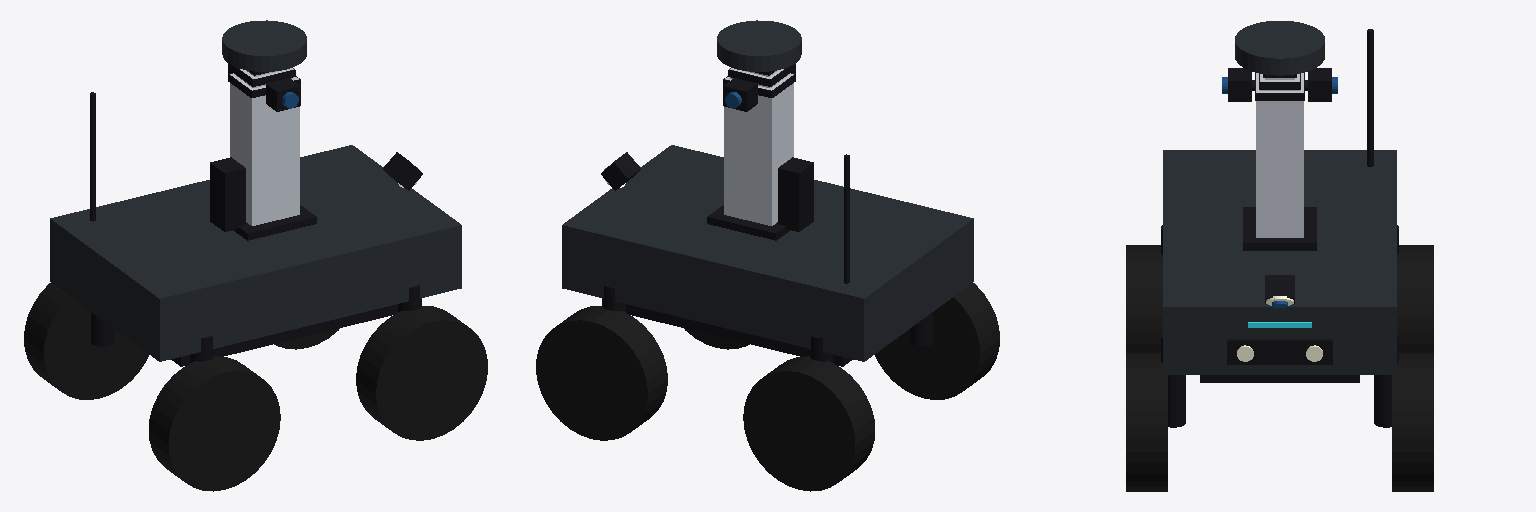
robot.urdf — agri_rover:
<?xml version="1.0"?>
<robot name="agri_rover">

  <material name="charcoal">
    <color rgba="0.20 0.22 0.24 1.0"/>
  </material>
  <material name="dark_gray">
    <color rgba="0.12 0.12 0.14 1.0"/>
  </material>
  <material name="tire_black">
    <color rgba="0.14 0.14 0.14 1.0"/>
  </material>
  <material name="silver">
    <color rgba="0.82 0.84 0.88 1.0"/>
  </material>
  <material name="cyan_led">
    <color rgba="0.25 0.92 1.0 1.0"/>
  </material>
  <material name="headlight">
    <color rgba="1.0 1.0 0.9 1.0"/>
  </material>
  <material name="lens_blue">
    <color rgba="0.15 0.35 0.55 1.0"/>
  </material>

  <!-- Base Link -->
  <link name="base_link">
    <!-- Main Dark Charcoal Chassis Deck -->
    <visual>
      <origin xyz="0 0 0.35" rpy="0 0 0"/>
      <geometry>
        <box size="0.70 0.44 0.14"/>
      </geometry>
      <material name="charcoal"/>
    </visual>

    <!-- Lower Undercarriage Frame -->
    <visual>
      <origin xyz="0 0 0.25" rpy="0 0 0"/>
      <geometry>
        <box size="0.52 0.30 0.06"/>
      </geometry>
      <material name="dark_gray"/>
    </visual>

    <!-- Front Headlight Housing -->
    <visual>
      <origin xyz="0.351 0 0.33" rpy="0 0 0"/>
      <geometry>
        <box size="0.02 0.20 0.05"/>
      </geometry>
      <material name="dark_gray"/>
    </visual>

    <!-- Front Left & Right Headlight Lenses -->
    <visual>
      <origin xyz="0.362 0.065 0.33" rpy="0 1.5707963 0"/>
      <geometry>
        <cylinder radius="0.016" length="0.008"/>
      </geometry>
      <material name="headlight"/>
    </visual>
    <visual>
      <origin xyz="0.362 -0.065 0.33" rpy="0 1.5707963 0"/>
      <geometry>
        <cylinder radius="0.016" length="0.008"/>
      </geometry>
      <material name="headlight"/>
    </visual>

    <!-- Front Cyan LED Strip -->
    <visual>
      <origin xyz="0.353 0 0.385" rpy="0 0 0"/>
      <geometry>
        <box size="0.008 0.12 0.010"/>
      </geometry>
      <material name="cyan_led"/>
    </visual>

    <!-- 4 Vertical Suspension Struts -->
    <visual>
      <origin xyz="0.24 0.20 0.22" rpy="0 0 0"/>
      <geometry>
        <cylinder radius="0.024" length="0.18"/>
      </geometry>
      <material name="dark_gray"/>
    </visual>
    <visual>
      <origin xyz="0.24 -0.20 0.22" rpy="0 0 0"/>
      <geometry>
        <cylinder radius="0.024" length="0.18"/>
      </geometry>
      <material name="dark_gray"/>
    </visual>
    <visual>
      <origin xyz="-0.24 0.20 0.22" rpy="0 0 0"/>
      <geometry>
        <cylinder radius="0.024" length="0.18"/>
      </geometry>
      <material name="dark_gray"/>
    </visual>
    <visual>
      <origin xyz="-0.24 -0.20 0.22" rpy="0 0 0"/>
      <geometry>
        <cylinder radius="0.024" length="0.18"/>
      </geometry>
      <material name="dark_gray"/>
    </visual>

    <!-- Rear Telemetry Antenna -->
    <visual>
      <origin xyz="-0.28 0.17 0.56" rpy="0 0 0"/>
      <geometry>
        <cylinder radius="0.006" length="0.28"/>
      </geometry>
      <material name="dark_gray"/>
    </visual>
  </link>

  <!-- CAMERA_MAST_BEGIN (auto-generated by scripts/generate_camera_mast.py from config/camera_mast.yaml - do not edit by hand) -->
  <!-- TELESCOPIC CAMERA MAST - 3-section linear-actuator lifting column. Camera height 0.73 m (retracted) .. 1.10 m (extended) -->

  <link name="mast_stage1_link">
    <inertial>
      <origin xyz="0 0 0.158" rpy="0 0 0"/>
      <mass value="0.7"/>
      <inertia ixx="0.006294" ixy="0" ixz="0" iyy="0.006527" iyz="0" izz="0.001178"/>
    </inertial>
    <visual>
      <origin xyz="0 0 0.158" rpy="0 0 0"/>
      <geometry>
        <box size="0.11 0.09 0.3159"/>
      </geometry>
      <material name="silver"/>
    </visual>
    <visual>
      <origin xyz="0 0 0.3079" rpy="0 0 0"/>
      <geometry>
        <box size="0.114 0.094 0.016"/>
      </geometry>
      <material name="dark_gray"/>
    </visual>
    <visual>
      <origin xyz="0 0 0.008" rpy="0 0 0"/>
      <geometry>
        <box size="0.16 0.14 0.016"/>
      </geometry>
      <material name="dark_gray"/>
    </visual>
    <visual>
      <origin xyz="-0.085 0 0.075" rpy="0 0 0"/>
      <geometry>
        <box size="0.05 0.06 0.13"/>
      </geometry>
      <material name="dark_gray"/>
    </visual>
  </link>

  <joint name="camera_mast_base_joint" type="fixed">
    <parent link="base_link"/>
    <child link="mast_stage1_link"/>
    <origin xyz="0.02 0 0.42" rpy="0 0 0"/>
  </joint>

  <link name="mast_stage2_link">
    <inertial>
      <origin xyz="0 0 0.158" rpy="0 0 0"/>
      <mass value="0.7"/>
      <inertia ixx="0.006141" ixy="0" ixz="0" iyy="0.006337" iyz="0" izz="0.000835"/>
    </inertial>
    <visual>
      <origin xyz="0 0 0.158" rpy="0 0 0"/>
      <geometry>
        <box size="0.094 0.074 0.3159"/>
      </geometry>
      <material name="silver"/>
    </visual>
    <visual>
      <origin xyz="0 0 0.3079" rpy="0 0 0"/>
      <geometry>
        <box size="0.098 0.078 0.016"/>
      </geometry>
      <material name="dark_gray"/>
    </visual>
  </link>

  <joint name="mast_stage2_joint" type="prismatic">
    <parent link="mast_stage1_link"/>
    <child link="mast_stage2_link"/>
    <origin xyz="0 0 0.02" rpy="0 0 0"/>
    <axis xyz="0 0 1"/>
    <limit lower="0" upper="0.1895" effort="800" velocity="0.03"/>
  </joint>

  <link name="mast_stage3_link">
    <inertial>
      <origin xyz="0 0 0.158" rpy="0 0 0"/>
      <mass value="1.5"/>
      <inertia ixx="0.012895" ixy="0" ixz="0" iyy="0.013235" iyz="0" izz="0.001181"/>
    </inertial>
    <visual>
      <origin xyz="0 0 0.158" rpy="0 0 0"/>
      <geometry>
        <box size="0.078 0.058 0.3159"/>
      </geometry>
      <material name="silver"/>
    </visual>
    <visual>
      <origin xyz="0 0 0.3079" rpy="0 0 0"/>
      <geometry>
        <box size="0.082 0.062 0.016"/>
      </geometry>
      <material name="dark_gray"/>
    </visual>
    <visual>
      <origin xyz="0 0 0.3209" rpy="0 0 0"/>
      <geometry>
        <box size="0.088 0.068 0.010"/>
      </geometry>
      <material name="dark_gray"/>
    </visual>
    <visual>
      <origin xyz="0 0 0.3434" rpy="0 0 0"/>
      <geometry>
        <cylinder radius="0.085" length="0.035"/>
      </geometry>
      <material name="charcoal"/>
    </visual>
    <visual>
      <origin xyz="0 0 0.2659" rpy="1.5707963 0 0"/>
      <geometry>
        <cylinder radius="0.01" length="0.2"/>
      </geometry>
      <material name="dark_gray"/>
    </visual>
  </link>

  <joint name="mast_stage3_joint" type="prismatic">
    <parent link="mast_stage2_link"/>
    <child link="mast_stage3_link"/>
    <origin xyz="0 0 0.02" rpy="0 0 0"/>
    <axis xyz="0 0 1"/>
    <limit lower="0" upper="0.1895" effort="800" velocity="0.03"/>
  </joint>

  <!-- Left Camera Link (Facing +Y -> Left Row) -->
  <link name="left_camera_link">
    <visual>
      <origin xyz="0 0 0" rpy="0 0 0"/>
      <geometry>
        <box size="0.045 0.055 0.045"/>
      </geometry>
      <material name="dark_gray"/>
    </visual>
    <visual>
      <origin xyz="0.027 0 0" rpy="0 1.5707963 0"/>
      <geometry>
        <cylinder radius="0.016" length="0.015"/>
      </geometry>
      <material name="lens_blue"/>
    </visual>
  </link>

  <joint name="left_camera_joint" type="fixed">
    <parent link="mast_stage3_link"/>
    <child link="left_camera_link"/>
    <origin xyz="0 0.075 0.2659" rpy="0 0 1.5707963"/>
  </joint>

  <link name="left_camera_optical_link"/>
  <joint name="left_camera_optical_joint" type="fixed">
    <parent link="left_camera_link"/>
    <child link="left_camera_optical_link"/>
    <origin xyz="0.03 0 0" rpy="-1.5707963 0 -1.5707963"/>
  </joint>

  <!-- Right Camera Link (Facing -Y -> Right Row) -->
  <link name="right_camera_link">
    <visual>
      <origin xyz="0 0 0" rpy="0 0 0"/>
      <geometry>
        <box size="0.045 0.055 0.045"/>
      </geometry>
      <material name="dark_gray"/>
    </visual>
    <visual>
      <origin xyz="0.027 0 0" rpy="0 1.5707963 0"/>
      <geometry>
        <cylinder radius="0.016" length="0.015"/>
      </geometry>
      <material name="lens_blue"/>
    </visual>
  </link>

  <joint name="right_camera_joint" type="fixed">
    <parent link="mast_stage3_link"/>
    <child link="right_camera_link"/>
    <origin xyz="0 -0.075 0.2659" rpy="0 0 -1.5707963"/>
  </joint>

  <link name="right_camera_optical_link"/>
  <joint name="right_camera_optical_joint" type="fixed">
    <parent link="right_camera_link"/>
    <child link="right_camera_optical_link"/>
    <origin xyz="0.03 0 0" rpy="-1.5707963 0 -1.5707963"/>
  </joint>
  <!-- CAMERA_MAST_END -->

  <!-- Bottom Front Camera Link + Flashlight Ring (Facing Down -Z at Ground ArUco Codes) -->
  <link name="bottom_camera_link">
    <visual>
      <origin xyz="0 0 0" rpy="0 0 0"/>
      <geometry>
        <box size="0.045 0.055 0.045"/>
      </geometry>
      <material name="dark_gray"/>
    </visual>
    <visual>
      <origin xyz="0.023 0 0" rpy="0 1.5707963 0"/>
      <geometry>
        <cylinder radius="0.026" length="0.006"/>
      </geometry>
      <material name="headlight"/>
    </visual>
    <visual>
      <origin xyz="0.026 0 0" rpy="0 1.5707963 0"/>
      <geometry>
        <cylinder radius="0.015" length="0.012"/>
      </geometry>
      <material name="lens_blue"/>
    </visual>
  </link>

  <joint name="bottom_camera_joint" type="fixed">
    <parent link="base_link"/>
    <child link="bottom_camera_link"/>
    <origin xyz="0.340 0 0.452" rpy="0 0.8500 0"/>
  </joint>

  <link name="bottom_camera_optical_link"/>
  <joint name="bottom_camera_optical_joint" type="fixed">
    <parent link="bottom_camera_link"/>
    <child link="bottom_camera_optical_link"/>
    <origin xyz="0.028 0 0" rpy="-1.5707963 0 -1.5707963"/>
  </joint>

  <!-- IMU Link -->
  <link name="imu_link"/>
  <joint name="imu_joint" type="fixed">
    <parent link="base_link"/>
    <child link="imu_link"/>
    <origin xyz="0 0 0.35" rpy="0 0 0"/>
  </joint>

  <!-- 4 Wheels -->
  <link name="front_left_wheel">
    <visual>
      <origin xyz="0 0 0" rpy="0 0 0"/>
      <geometry>
        <cylinder radius="0.13" length="0.08"/>
      </geometry>
      <material name="tire_black"/>
    </visual>
  </link>
  <joint name="front_left_wheel_joint" type="continuous">
    <parent link="base_link"/>
    <child link="front_left_wheel"/>
    <origin xyz="0.24 0.25 0.13" rpy="-1.5707963 0 0"/>
    <axis xyz="0 0 1"/>
  </joint>

  <link name="front_right_wheel">
    <visual>
      <origin xyz="0 0 0" rpy="0 0 0"/>
      <geometry>
        <cylinder radius="0.13" length="0.08"/>
      </geometry>
      <material name="tire_black"/>
    </visual>
  </link>
  <joint name="front_right_wheel_joint" type="continuous">
    <parent link="base_link"/>
    <child link="front_right_wheel"/>
    <origin xyz="0.24 -0.25 0.13" rpy="-1.5707963 0 0"/>
    <axis xyz="0 0 1"/>
  </joint>

  <link name="rear_left_wheel">
    <visual>
      <origin xyz="0 0 0" rpy="0 0 0"/>
      <geometry>
        <cylinder radius="0.13" length="0.08"/>
      </geometry>
      <material name="tire_black"/>
    </visual>
  </link>
  <joint name="rear_left_wheel_joint" type="continuous">
    <parent link="base_link"/>
    <child link="rear_left_wheel"/>
    <origin xyz="-0.24 0.25 0.13" rpy="-1.5707963 0 0"/>
    <axis xyz="0 0 1"/>
  </joint>

  <link name="rear_right_wheel">
    <visual>
      <origin xyz="0 0 0" rpy="0 0 0"/>
      <geometry>
        <cylinder radius="0.13" length="0.08"/>
      </geometry>
      <material name="tire_black"/>
    </visual>
  </link>
  <joint name="rear_right_wheel_joint" type="continuous">
    <parent link="base_link"/>
    <child link="rear_right_wheel"/>
    <origin xyz="-0.24 -0.25 0.13" rpy="-1.5707963 0 0"/>
    <axis xyz="0 0 1"/>
  </joint>

</robot>

--- Render facts (derived) ---
Views: 3 orthographic renders of the robot side by side, from view 1: azimuth 30°, elevation 25°; view 2: azimuth 150°, elevation 25°; view 3: azimuth 270°, elevation 25°.
Model agri_rover with 15 links and 14 joints (4 continuous, 2 prismatic, 8 fixed), rooted at base_link, posed every joint at zero.
Visible links, largest first — view 1: base_link, rear_right_wheel, front_right_wheel, mast_stage1_link, rear_left_wheel, mast_stage3_link, right_camera_link, bottom_camera_link, mast_stage2_link, front_left_wheel; view 2: base_link, rear_left_wheel, front_left_wheel, mast_stage1_link, rear_right_wheel, mast_stage3_link, left_camera_link, bottom_camera_link, mast_stage2_link, front_right_wheel; view 3: base_link, mast_stage1_link, front_left_wheel, front_right_wheel, mast_stage3_link, rear_left_wheel, rear_right_wheel, bottom_camera_link, left_camera_link, right_camera_link.
Boxes of the visible links, x1,y1,x2,y2 form: base_link: (50, 92, 461, 366); rear_right_wheel: (149, 356, 280, 491); front_right_wheel: (356, 306, 487, 440); mast_stage1_link: (210, 73, 316, 240); rear_left_wheel: (24, 283, 148, 399); mast_stage3_link: (222, 20, 306, 76); right_camera_link: (266, 78, 300, 111); bottom_camera_link: (383, 152, 422, 190); mast_stage2_link: (234, 67, 295, 87); front_left_wheel: (274, 328, 339, 349); base_link: (562, 145, 973, 366); rear_left_wheel: (743, 356, 874, 491); front_left_wheel: (536, 306, 667, 440); mast_stage1_link: (707, 73, 813, 240); rear_right_wheel: (875, 283, 999, 399); mast_stage3_link: (717, 20, 801, 76); left_camera_link: (723, 78, 757, 111); bottom_camera_link: (601, 152, 640, 190); mast_stage2_link: (728, 67, 789, 87); front_right_wheel: (684, 328, 749, 349); base_link: (1161, 29, 1398, 427); mast_stage1_link: (1243, 73, 1316, 250); front_left_wheel: (1392, 353, 1433, 491); front_right_wheel: (1126, 353, 1167, 491); mast_stage3_link: (1235, 21, 1324, 90); rear_left_wheel: (1397, 245, 1433, 352); rear_right_wheel: (1126, 245, 1162, 352); bottom_camera_link: (1265, 275, 1294, 307); left_camera_link: (1308, 68, 1337, 101); right_camera_link: (1222, 68, 1251, 101).
Bounding box of the posed robot: 0.7467 × 0.58 × 0.8209 m (x, y, z).
Geometry: primitives only (box / cylinder / sphere), no mesh files.
